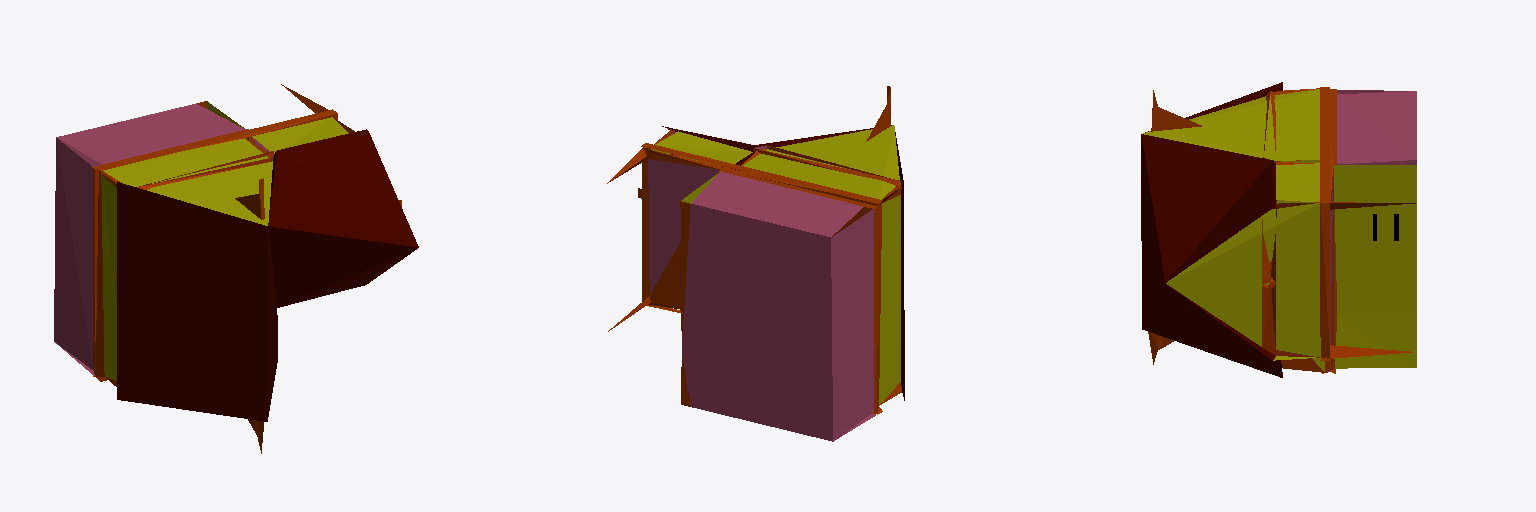
The model's file is house_degraded.obj.
3 views of the same model, side by side, from view 1: azimuth 30°, elevation 25°; view 2: azimuth 150°, elevation 25°; view 3: azimuth 270°, elevation 25° (orthographic).
Parts seen in each view (by area): view 1: Cube; view 2: Cube; view 3: Cube.
Boxes of the visible parts, x1=… form: Cube: x1=54, y1=84, x2=418, y2=453; Cube: x1=607, y1=86, x2=904, y2=441; Cube: x1=1141, y1=82, x2=1416, y2=377.
Size of the model in its own units: 9.26 by 8.83 by 8.07.